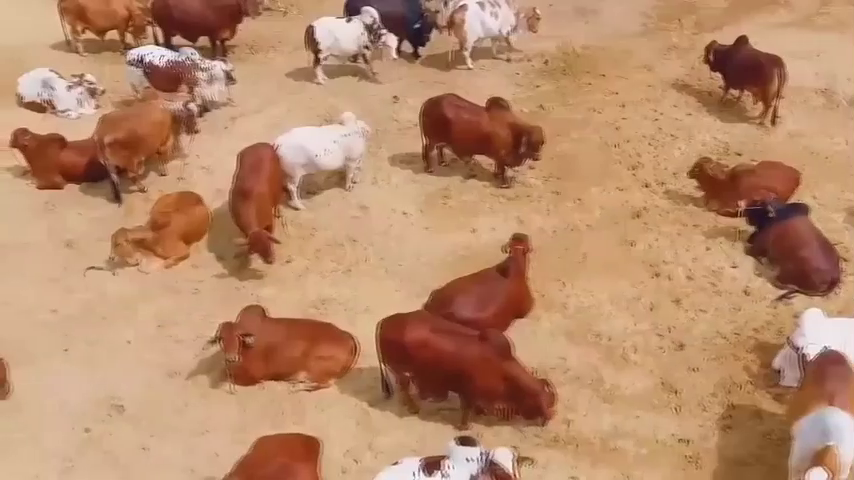bo: (369, 302, 561, 436), (205, 296, 379, 405), (413, 83, 556, 192), (717, 191, 849, 303), (424, 223, 552, 333), (270, 99, 369, 223), (88, 85, 203, 186), (108, 183, 216, 282), (750, 290, 854, 391), (219, 131, 288, 280), (776, 346, 851, 476), (690, 27, 791, 123), (297, 5, 402, 88), (362, 431, 539, 480), (206, 414, 336, 480), (683, 150, 816, 213), (438, 2, 552, 75), (138, 4, 280, 62), (7, 122, 106, 197), (127, 40, 234, 106), (45, 3, 154, 55), (5, 59, 95, 120), (342, 2, 433, 61)
